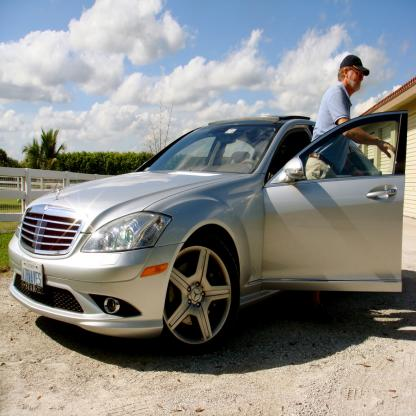Car: (9, 111, 409, 358)
